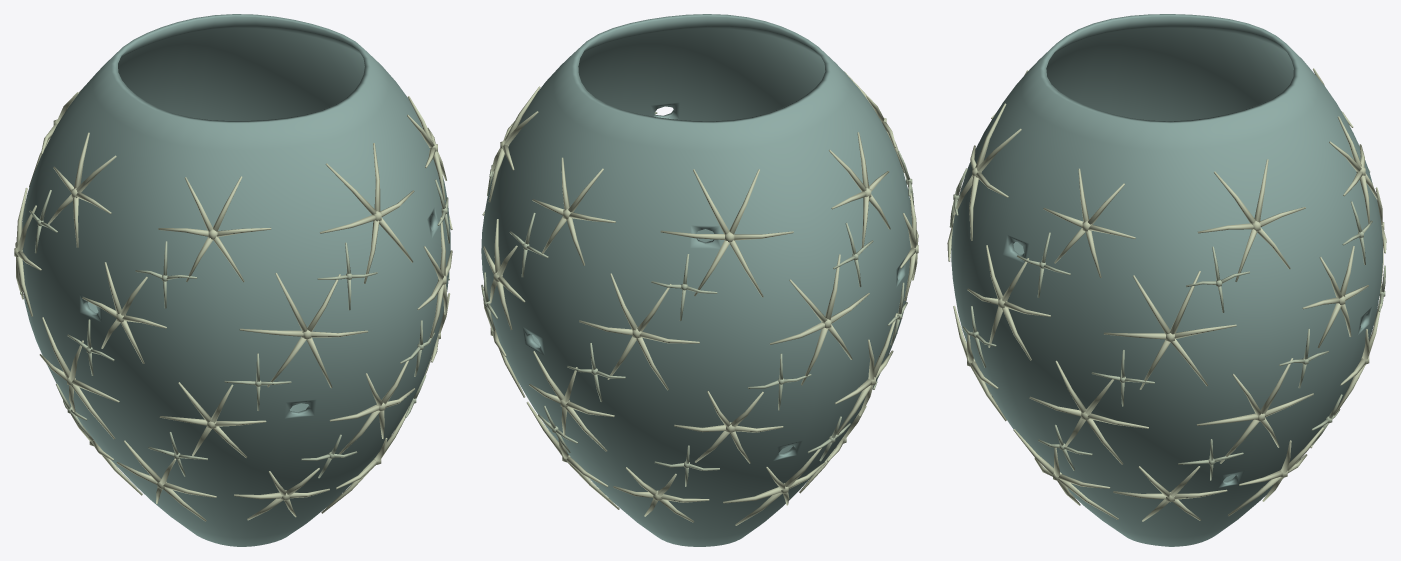
The model's file is eiffelia.glb.
3 renders of one model, left to right at view 1: azimuth 30°, elevation 25°; view 2: azimuth 150°, elevation 25°; view 3: azimuth 270°, elevation 25°, orthographic.
Visible parts, largest first — view 1: rounded-thin-sac-wall-with-small-ostia, hierarchical-interlocking-star-spicule-framework; view 2: rounded-thin-sac-wall-with-small-ostia, hierarchical-interlocking-star-spicule-framework; view 3: rounded-thin-sac-wall-with-small-ostia, hierarchical-interlocking-star-spicule-framework.
Boxes of the visible parts, x1=… form: rounded-thin-sac-wall-with-small-ostia: x1=22, y1=14, x2=450, y2=546; hierarchical-interlocking-star-spicule-framework: x1=14, y1=87, x2=452, y2=521; rounded-thin-sac-wall-with-small-ostia: x1=481, y1=14, x2=911, y2=546; hierarchical-interlocking-star-spicule-framework: x1=481, y1=71, x2=918, y2=525; rounded-thin-sac-wall-with-small-ostia: x1=951, y1=14, x2=1382, y2=546; hierarchical-interlocking-star-spicule-framework: x1=947, y1=68, x2=1386, y2=521.
Bounding box in the file's own units: 0.1098 × 0.13 × 0.1089.
